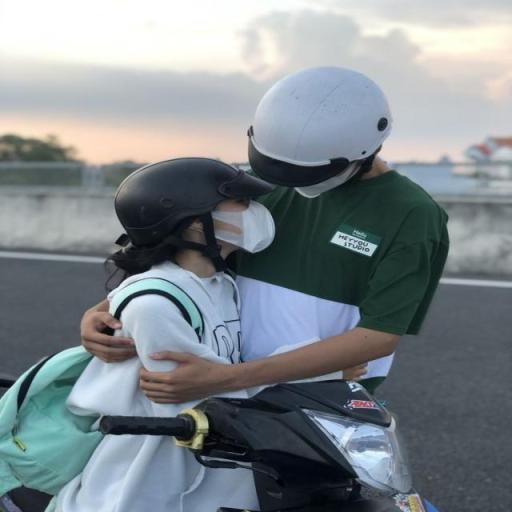with helmet: (245, 65, 392, 178), (113, 156, 278, 234)
